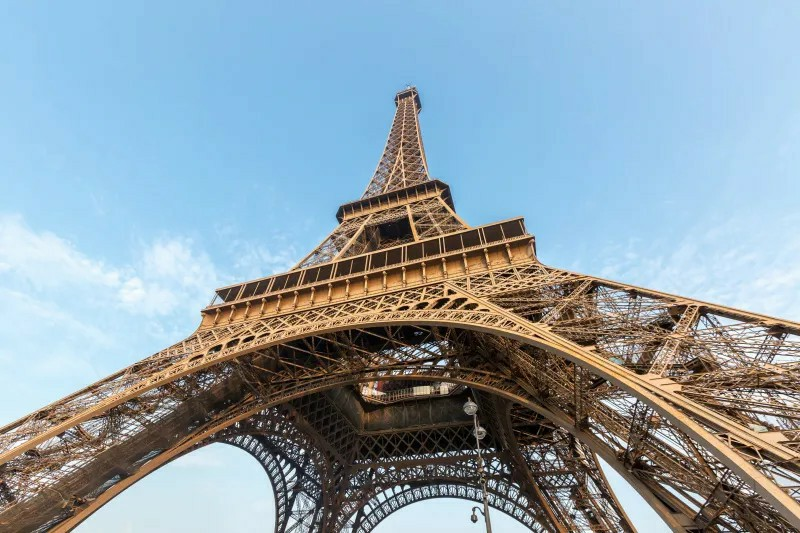Eiffel: (1, 82, 800, 533)
